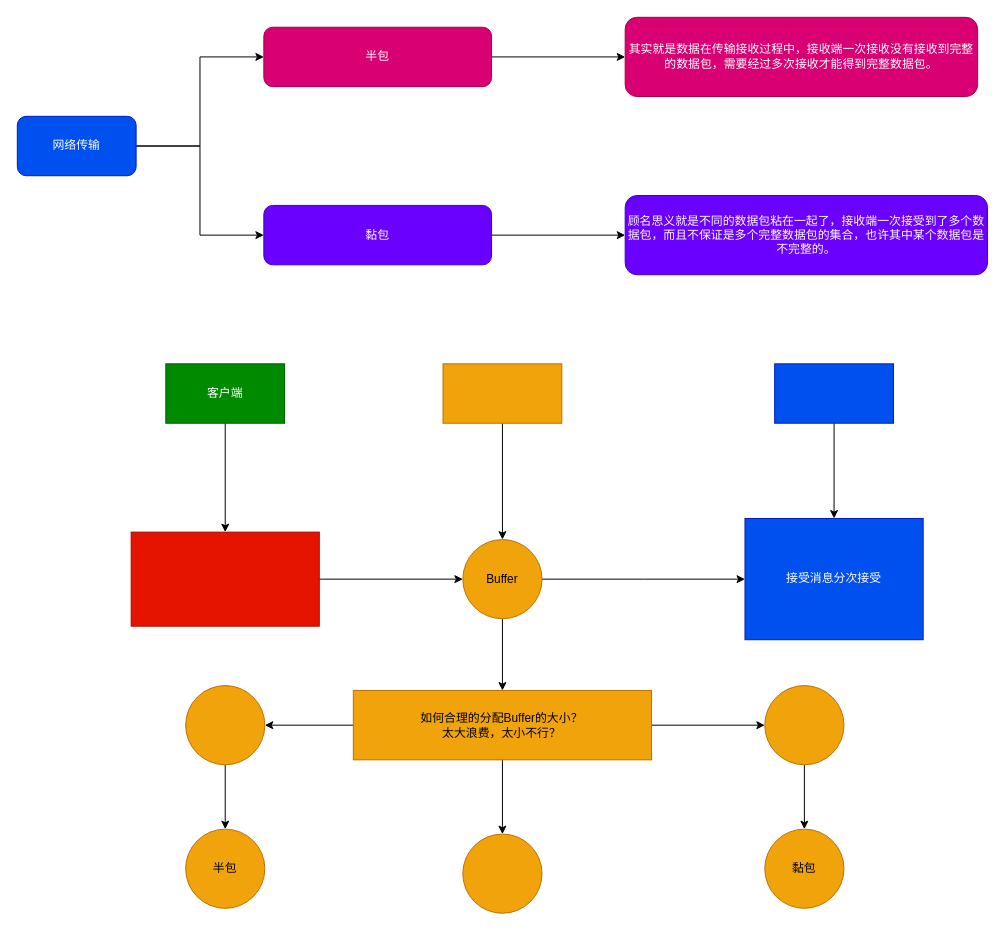
Image size: 1005x931. Some labels were removed from this diagram. The shapes that lost their labels are listed below. From the top down, each one's centre as x and y in pixels, then its label:
At [502,393]: "Channel".
At [833,393]: "服务端".
At [224,578]: "heeko\n hhhh\n sss\n".
At [225,725]: "太小".
At [804,725]: "太大".
At [502,873]: "合理的标识符".
